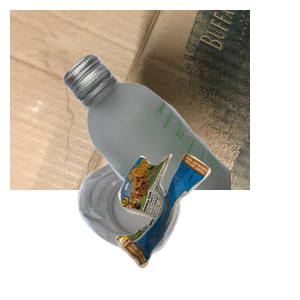cardboard: (10, 10, 250, 190)
glass: (60, 51, 300, 231)
plastic: (75, 154, 248, 300)
trash: (114, 151, 300, 300)
